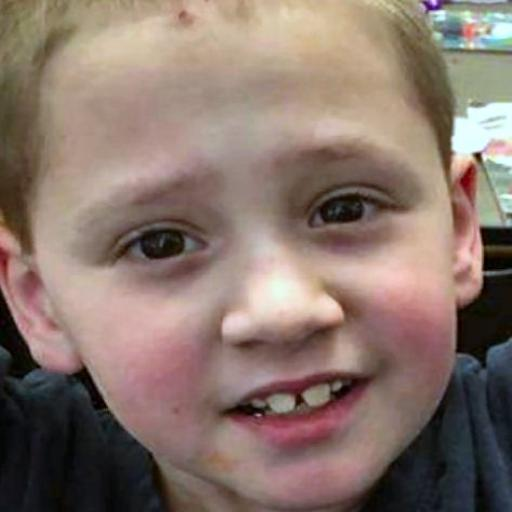Autism: (8, 1, 497, 496)
